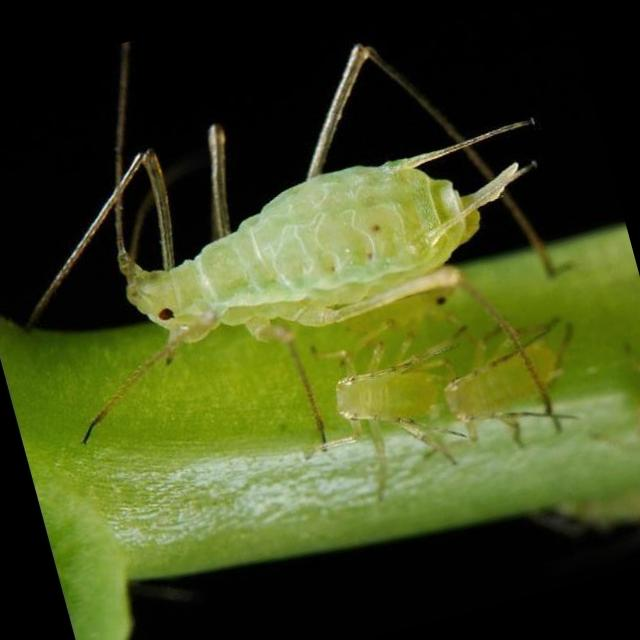aphid: (0, 0, 597, 430), (285, 314, 473, 512), (407, 297, 606, 478)
